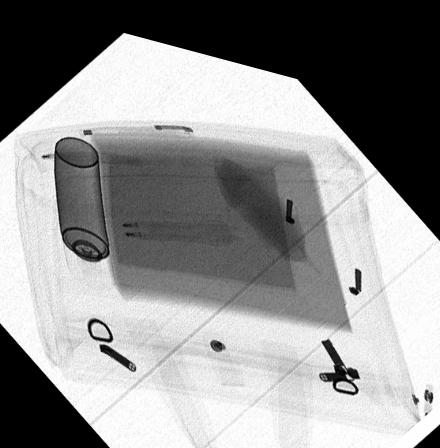Sprayer: (55, 132, 116, 284)
